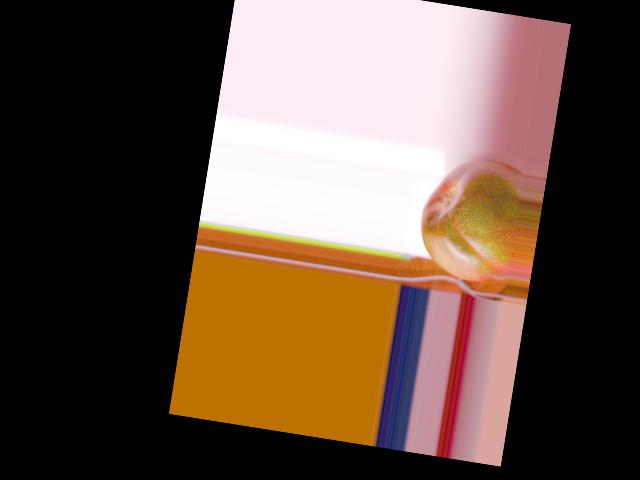tomato: (412, 151, 525, 286)
